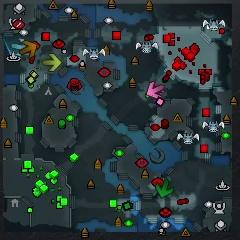x1: (147, 81, 164, 99)
x2: (43, 53, 61, 71)
x3: (11, 38, 25, 57)
x4: (156, 179, 172, 197)
x5: (20, 41, 36, 57)
